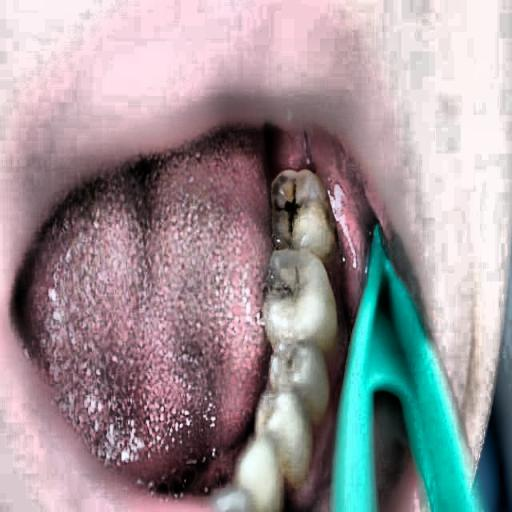Caries: (264, 132, 359, 257)
